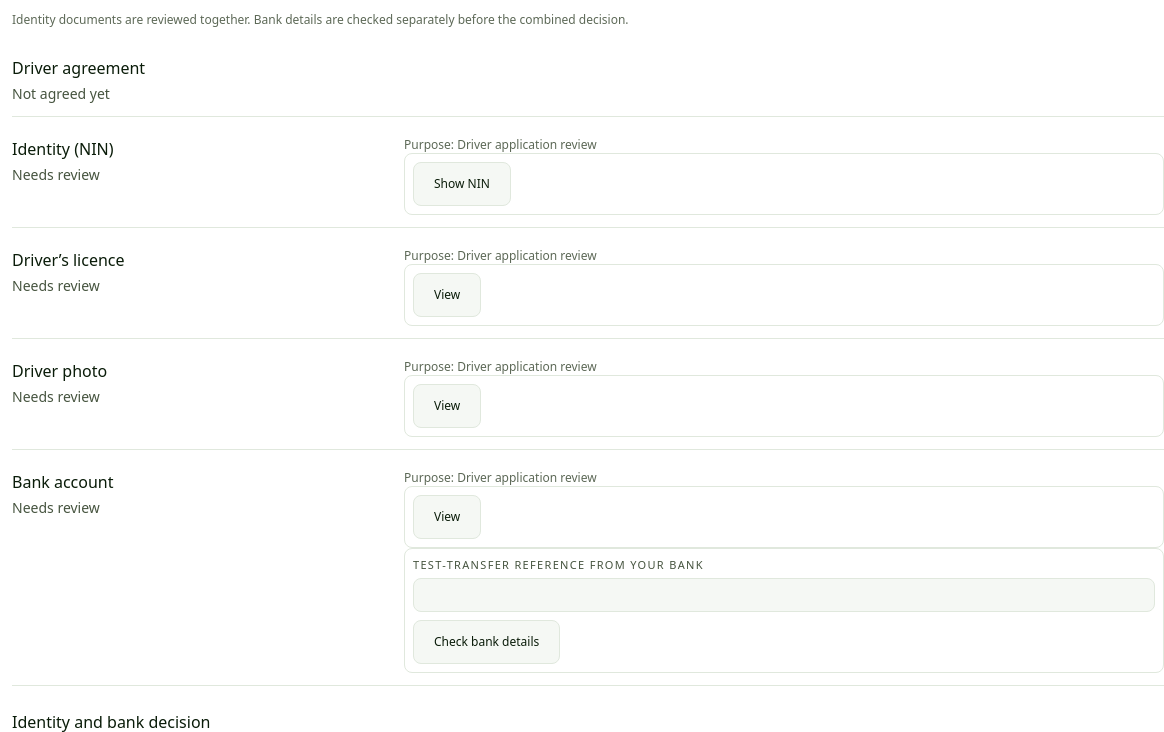
clears the document link on hide and presents failed reads without exposing data
Click the 2nd button "View" at (447, 406), box [413,384,481,428]
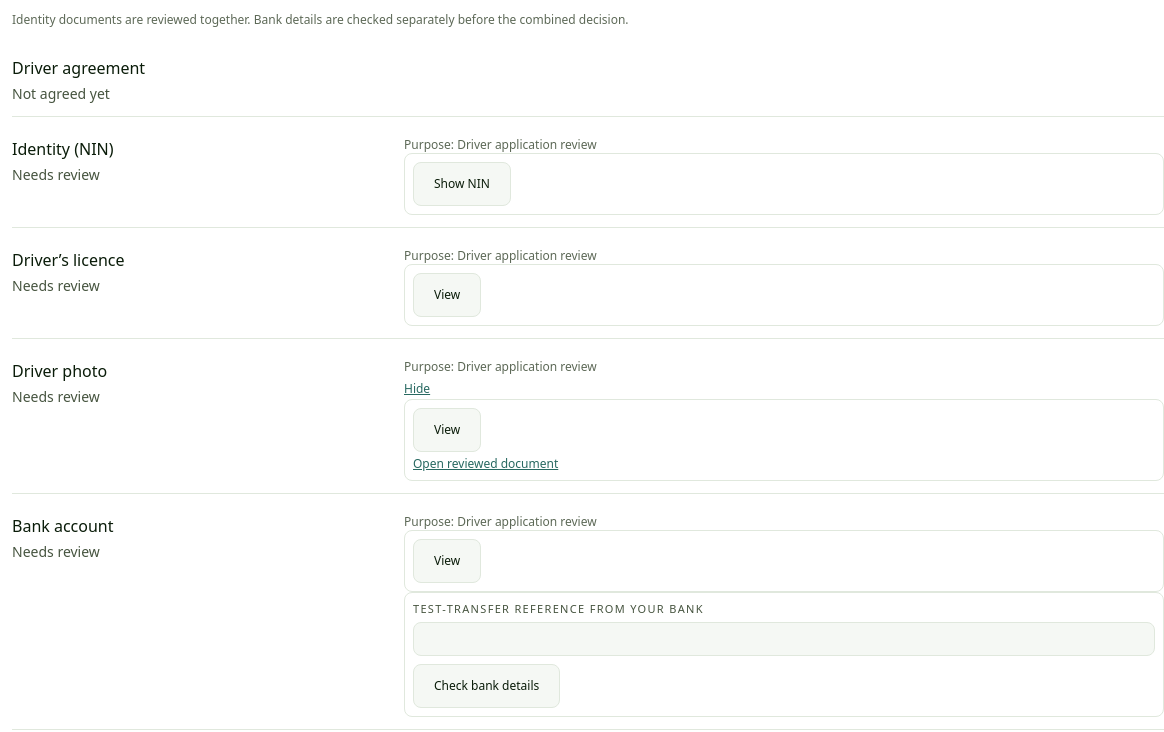
Click the button "Hide" at (417, 389), box [404,381,430,397]
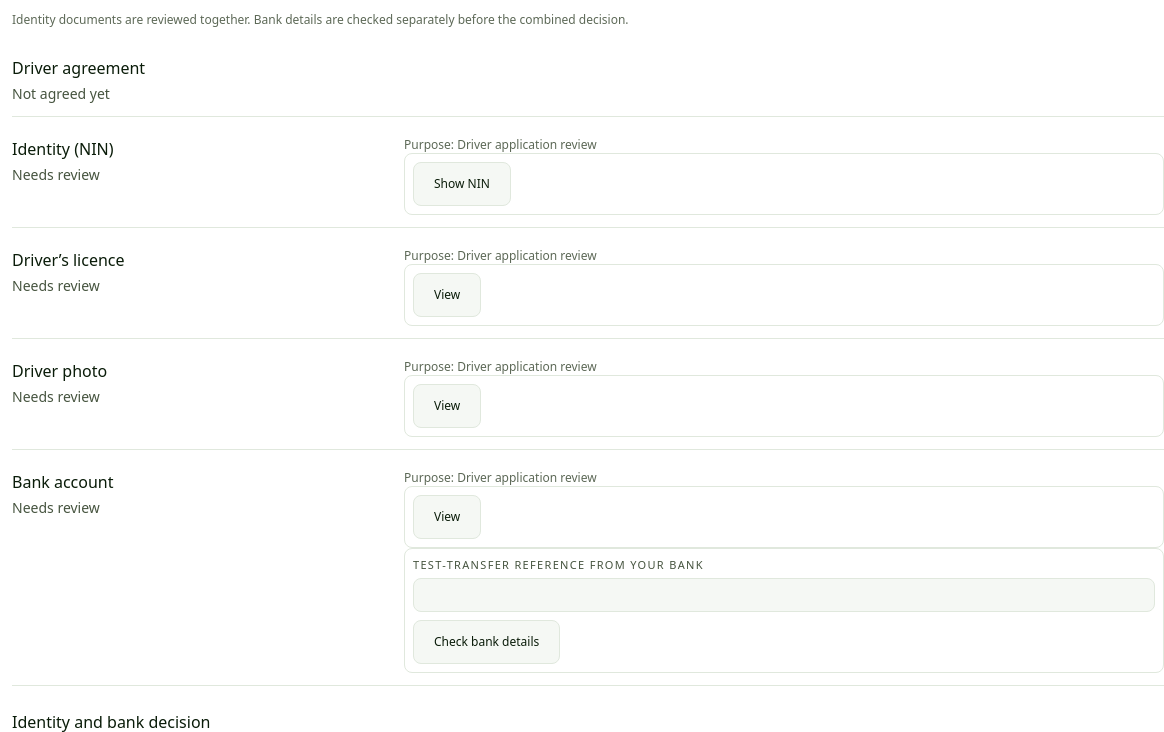
Expected: the link "Open reviewed document" is gone
Click the 2nd button "View" at (447, 406), box [413,384,481,428]
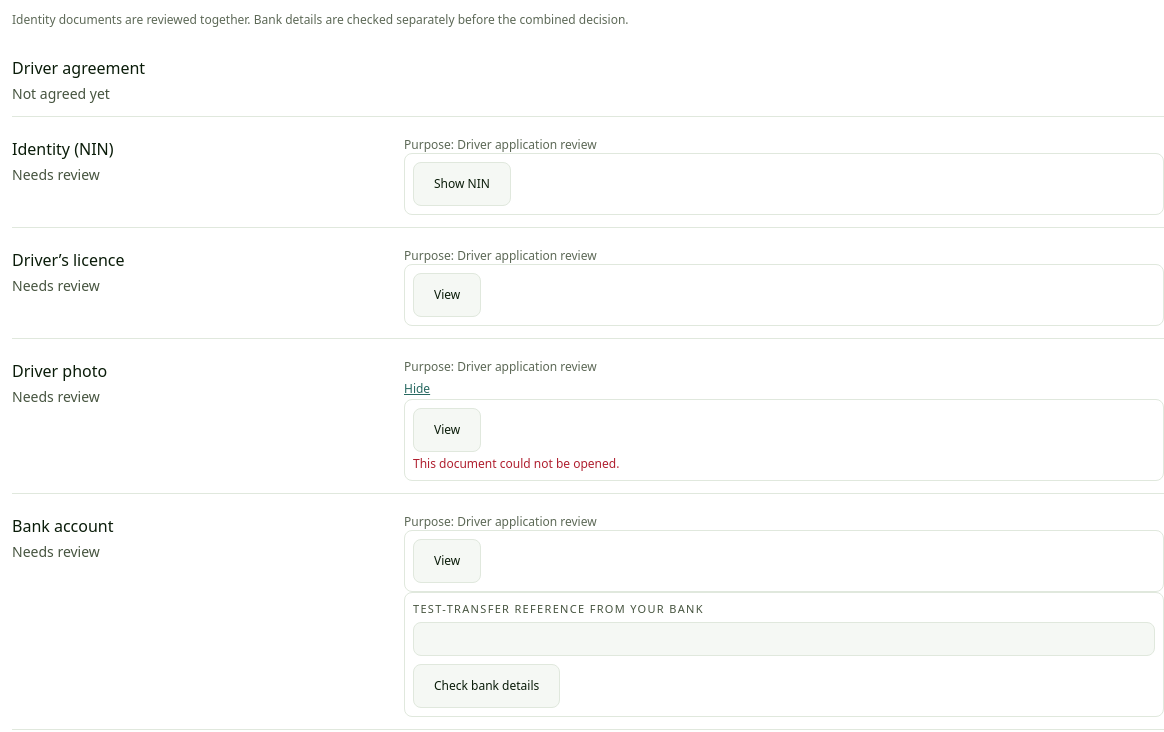
Expected: the link "Open reviewed document" is not shown
Expected: the text "This document could not be opened." is shown, [413,455,619,472]
